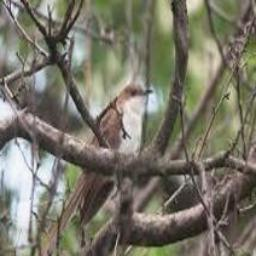Cuckoo: (35, 82, 152, 256)
